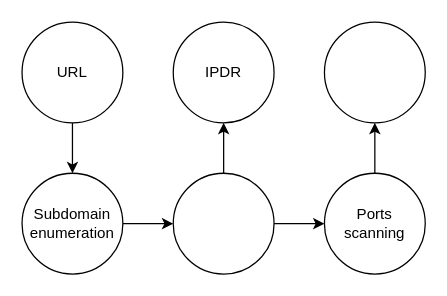
The diagram is 447 pixels wide and 296 high, and some of its shapes have lost their labels. The shapes that lost their labels are listed below. From the top down, each one's centre as x and y in pixels, then its label:
At (x=374, y=72): "Service enumeration".
At (x=223, y=223): "DNS".
